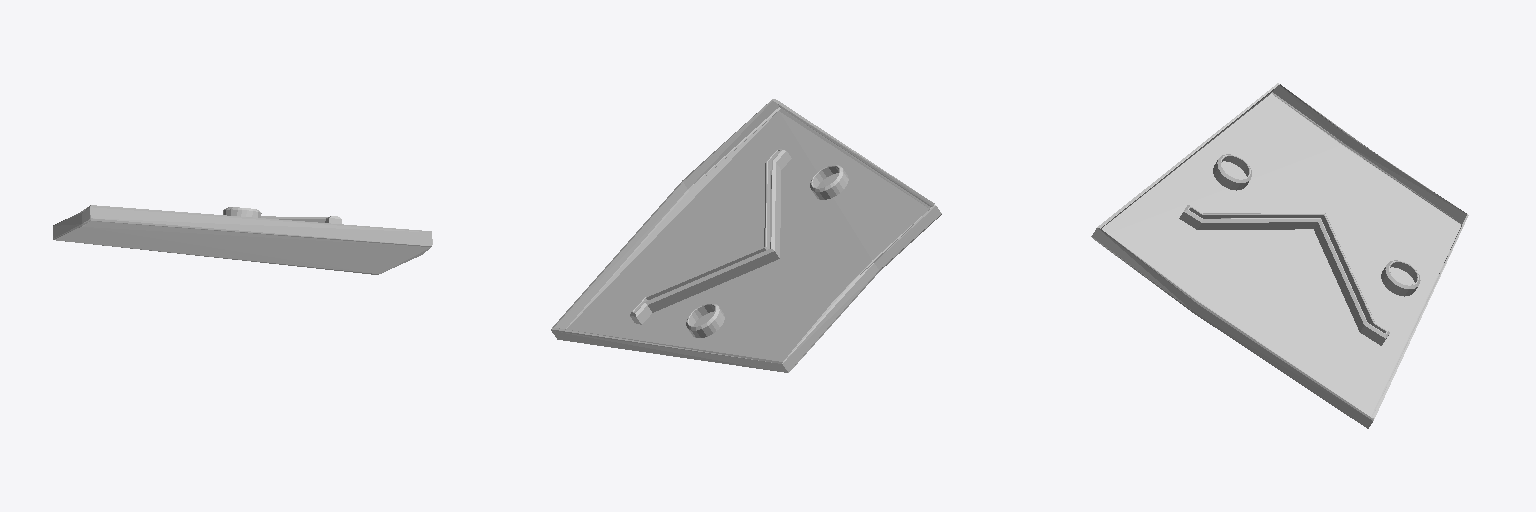
File: origin_2.obj
The picture shows the model from 3 angles: view 1: azimuth 30°, elevation 25°; view 2: azimuth 150°, elevation 25°; view 3: azimuth 270°, elevation 25°; orthographic projection.
Parts seen in each view (by area): view 1: Default; view 2: Default; view 3: Default.
Part boxes in pixels (x1,y1,x2,y2): Default: (53,205,432,274); Default: (551,99,941,372); Default: (1091,83,1468,428).
Bounding box in the file's own units: 0.1988 × 0.1029 × 0.1911.